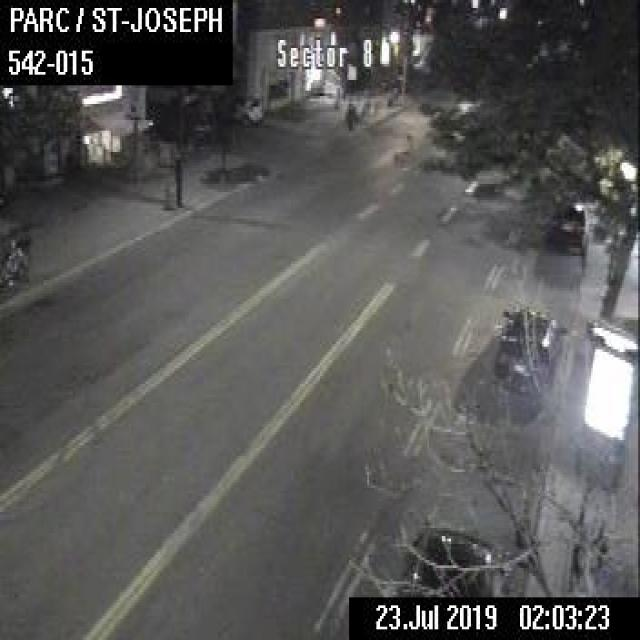vehicle: (396, 522, 513, 594), (491, 302, 565, 389), (548, 203, 586, 252), (230, 90, 260, 122)
